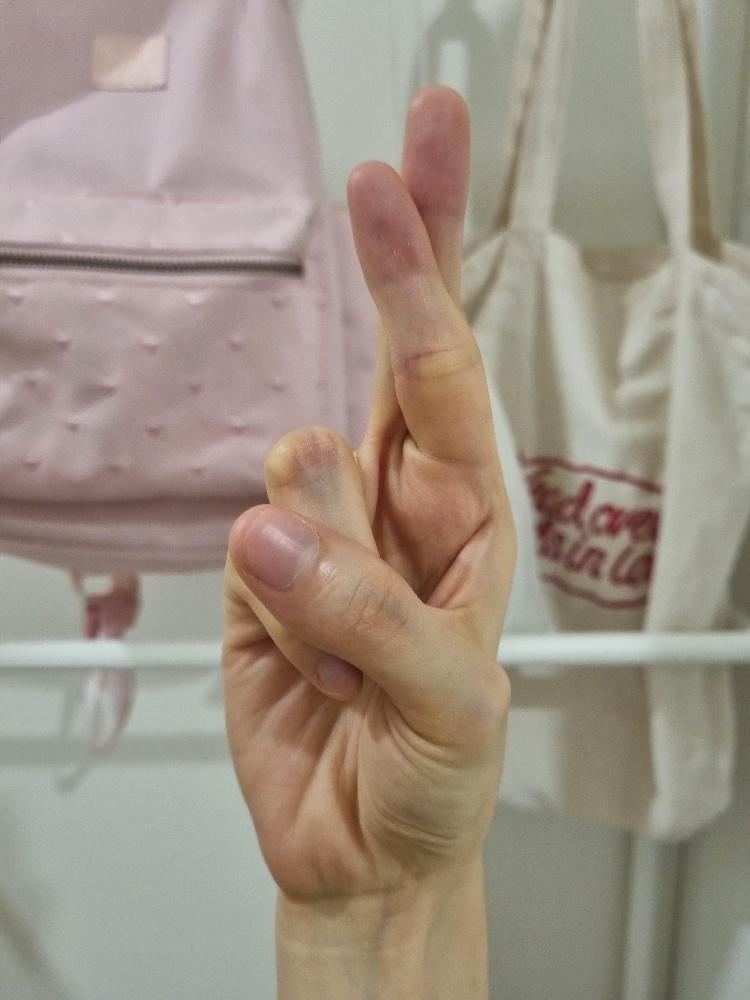r: (218, 82, 520, 897)
